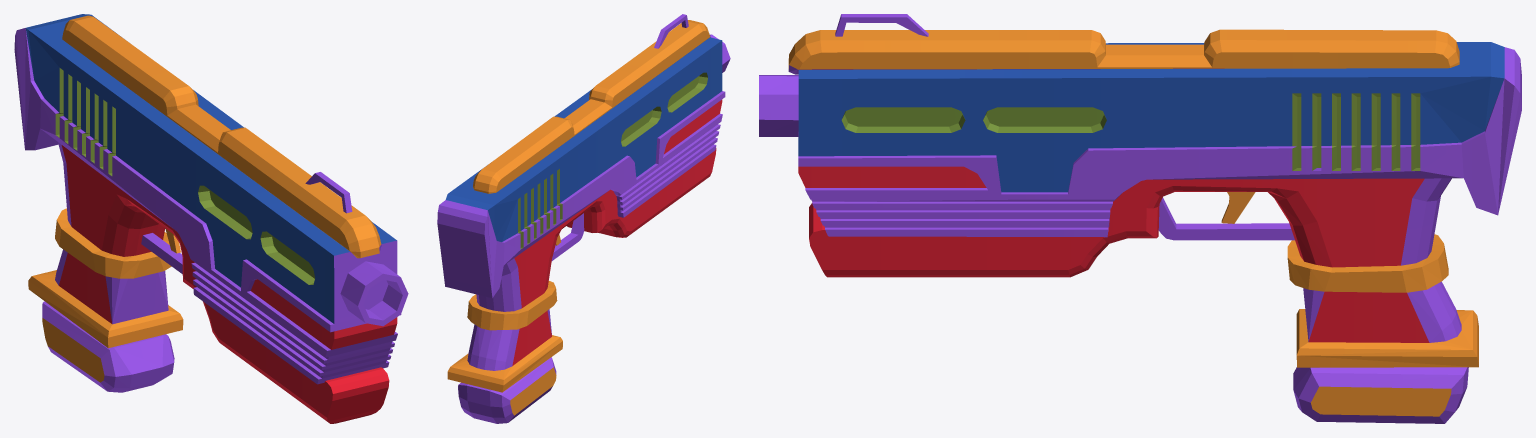
Rendered from Electric gun.fbx.
3 views of the same model, side by side, from view 1: azimuth 30°, elevation 25°; view 2: azimuth 150°, elevation 25°; view 3: azimuth 270°, elevation 25° (orthographic). The views are drawn at different scales.
Visible parts, largest first — view 1: Electric_Gun; view 2: Electric_Gun; view 3: Electric_Gun.
Part boxes in pixels (x1,y1,x2,y2): Electric_Gun: (14, 14, 408, 423); Electric_Gun: (437, 14, 730, 423); Electric_Gun: (759, 14, 1521, 423).
Bounding box in the file's own units: 7.03 × 31.06 × 54.14.
Materials: 1 (1 with a texture image).
